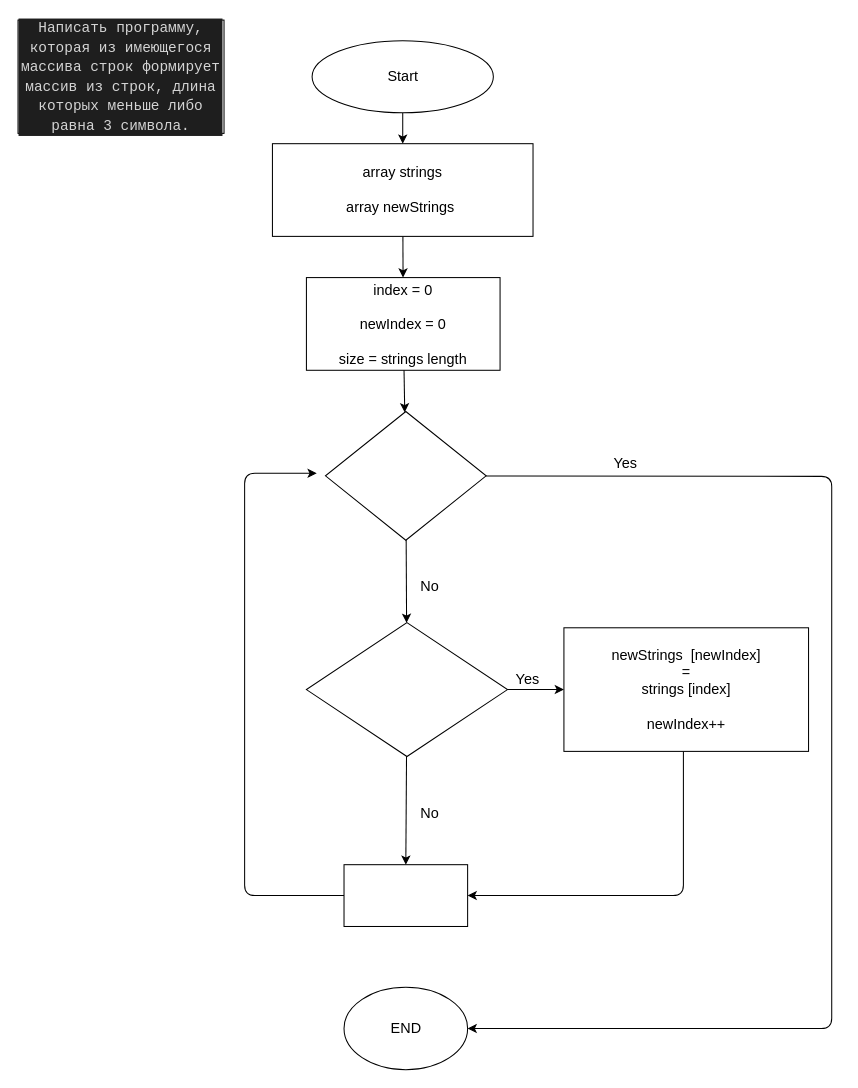
This 858x1088 diagram has some shape labels left out. Here are the shapes that lost their labels. From the top down, the centre of each, then its label:
At (x=405, y=475): "index < size".
At (x=406, y=689): "strings[index] Length <= 3 ?".
At (x=405, y=895): "index++".
